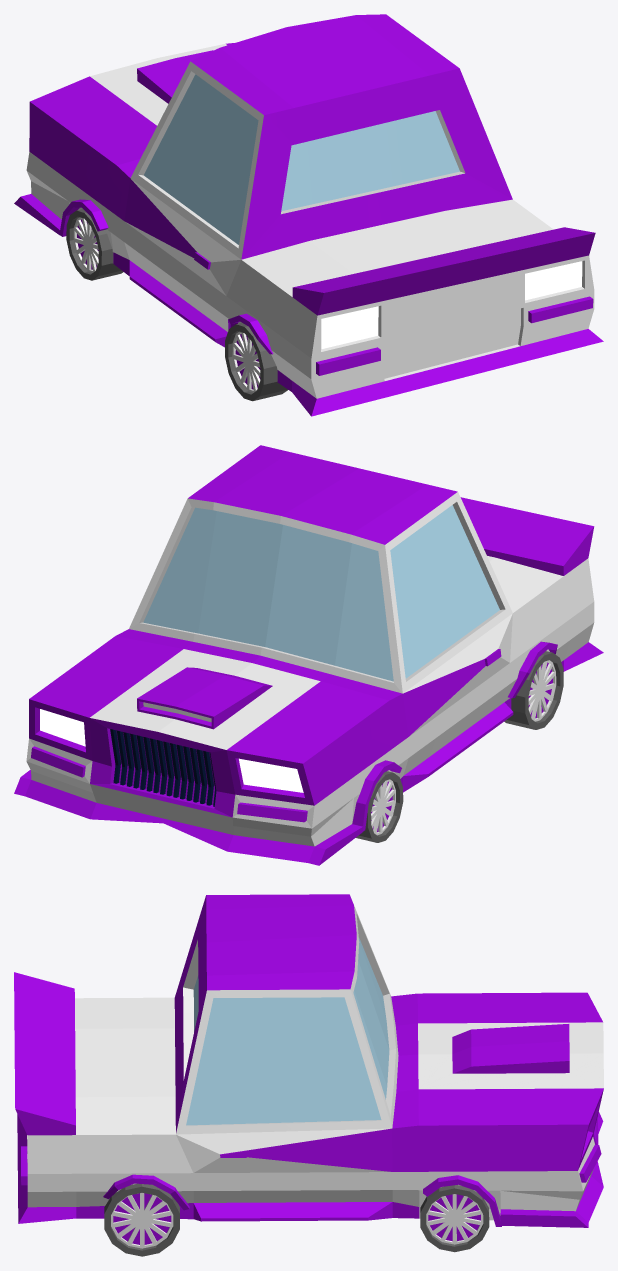
Rendered from RaceCar.glb.
3 views of the same model, one above another, from view 1: azimuth 30°, elevation 25°; view 2: azimuth 150°, elevation 25°; view 3: azimuth 270°, elevation 25° (orthographic). The views are drawn at different scales.
Visible parts, largest first — view 1: body, backlight, wheel_1, wheel1_1, front_fender, rear_fender; view 2: body, lattice_1, wheel_1, headlight, wheel1_1, front_fender, rear_fender; view 3: body, wheel_1, wheel1_1, front_fender, rear_fender.
Part boxes in pixels (<box>): body: <box>14,14,603,416</box>; backlight: <box>321,261,582,349</box>; wheel_1: <box>225,323,287,401</box>; wheel1_1: <box>66,209,123,280</box>; front_fender: <box>60,199,108,236</box>; rear_fender: <box>228,313,273,354</box>; body: <box>14,445,603,865</box>; lattice_1: <box>110,729,216,806</box>; wheel_1: <box>504,651,563,729</box>; headlight: <box>40,709,303,792</box>; wheel1_1: <box>356,771,403,842</box>; front_fender: <box>352,760,401,831</box>; rear_fender: <box>508,641,557,698</box>; body: <box>14,894,603,1227</box>; wheel_1: <box>104,1183,179,1256</box>; wheel1_1: <box>420,1185,489,1252</box>; front_fender: <box>423,1175,501,1226</box>; rear_fender: <box>103,1174,189,1210</box>.
Bounding box in the file's own units: 1.38 × 1.11 × 2.37.
